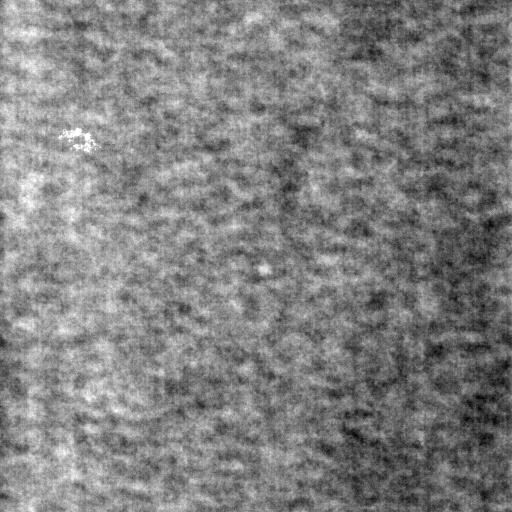DefectTypeA: (56, 130, 103, 156)
